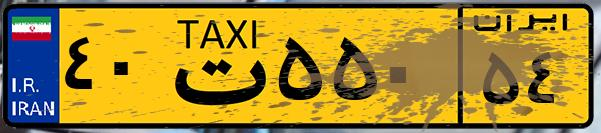0: (385, 28, 445, 110), (110, 28, 158, 98)
4: (57, 26, 110, 100), (525, 38, 570, 115)
5: (270, 28, 330, 110), (330, 28, 385, 110), (475, 38, 525, 113)
ت: (158, 12, 270, 120)
